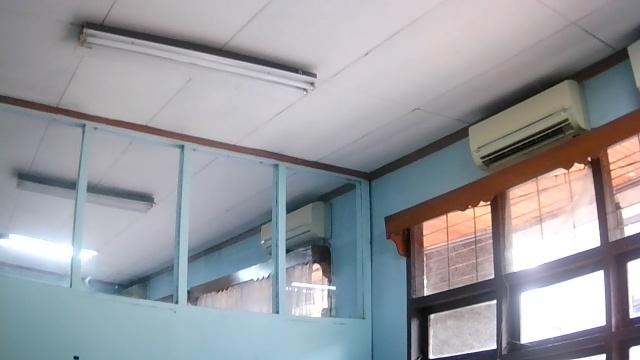AC: (467, 77, 590, 173), (260, 199, 332, 257)
